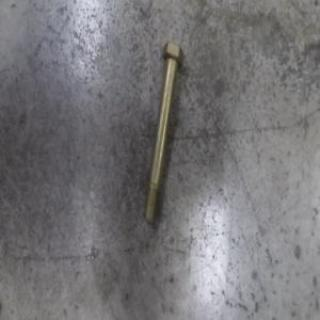Bolttrack_idkeyframe: (141, 40, 183, 226)
